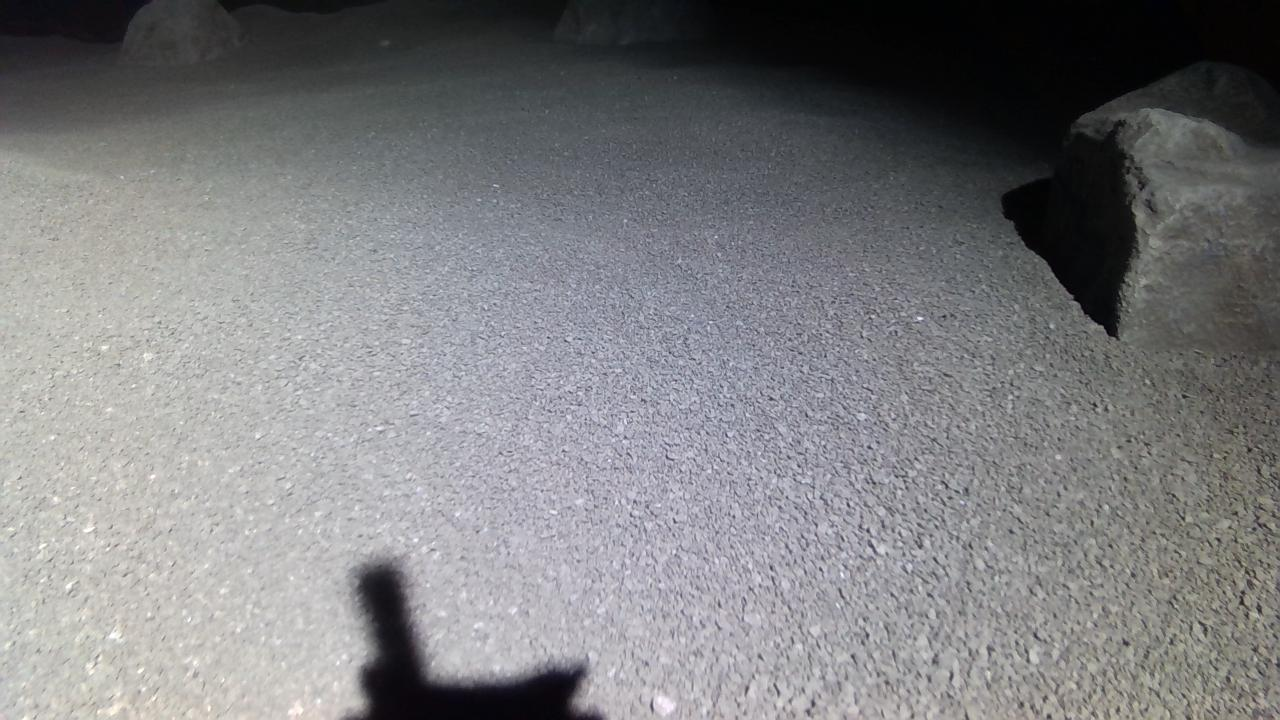rock: (1044, 61, 1280, 358), (118, 0, 243, 64), (554, 0, 716, 44)
